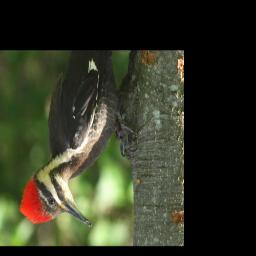Woodpecker: (20, 51, 136, 228)
